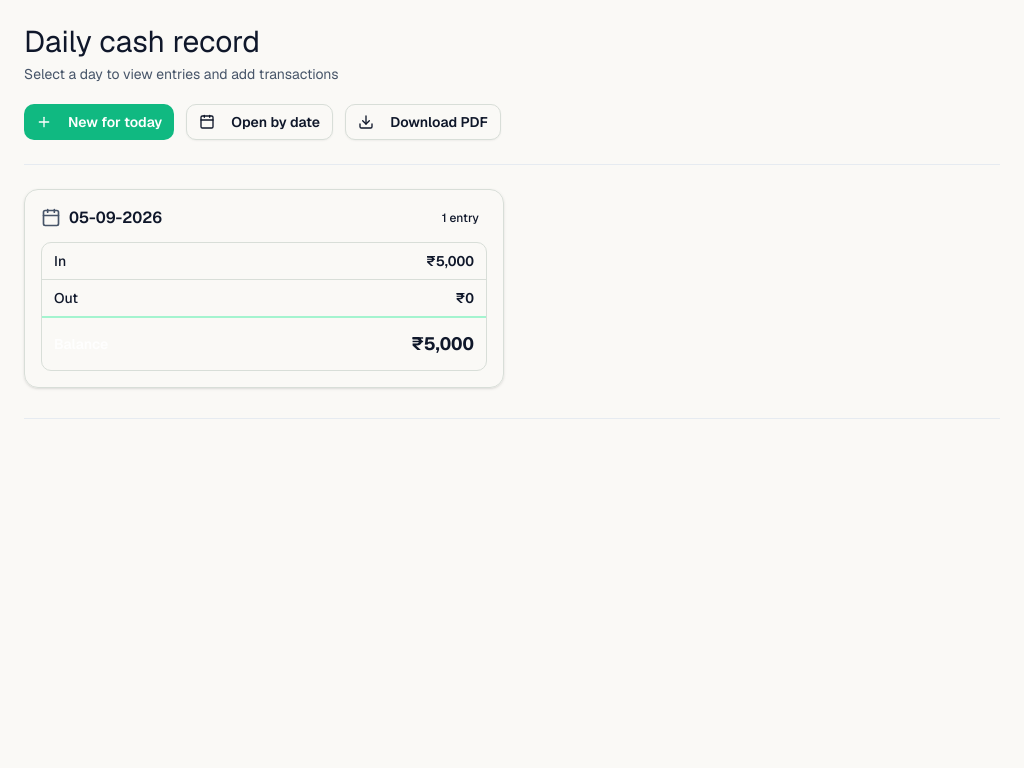
Test: DailyCashRecordPage entry dates › shows the assigned cash date instead of the entry creation date
This screenshot has width=1024, height=768.
Click the button "05-09-2026 1 entry In ₹5,000 Out ₹0 Balance ₹5,000" at (264, 288), box top-left (24, 189), bottom-right (504, 388)
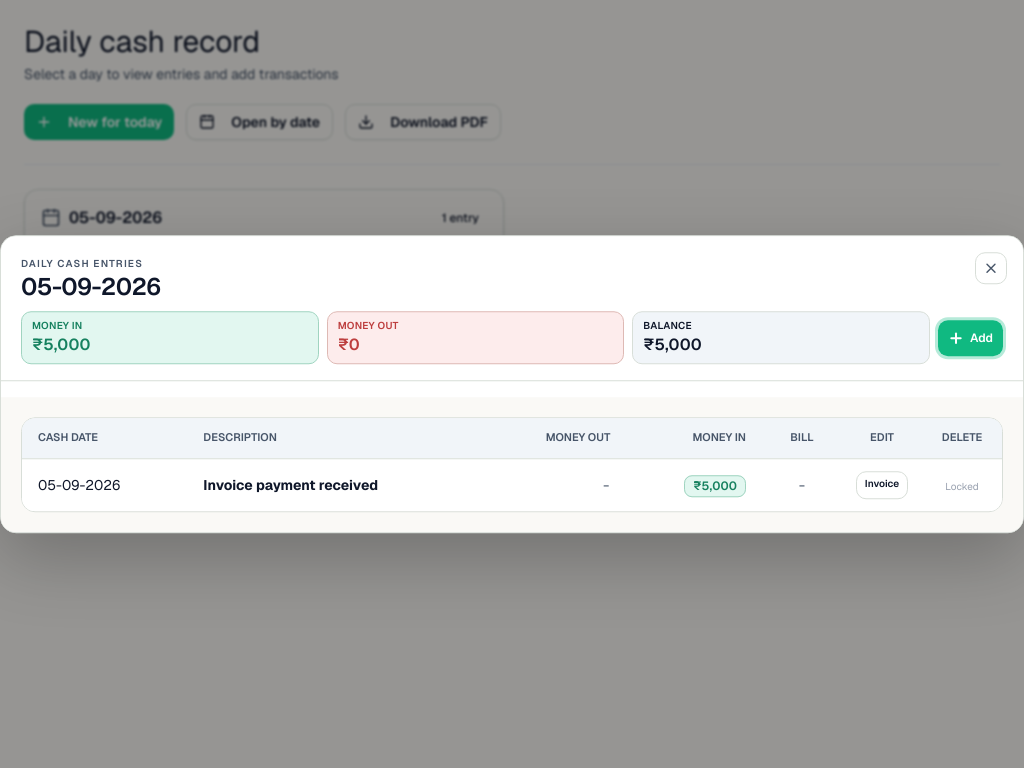
expect the column heading "Cash Date" is shown: met, box top-left (22, 418), bottom-right (187, 458)
expect the number of headings "05-09-2026" is 3: met
